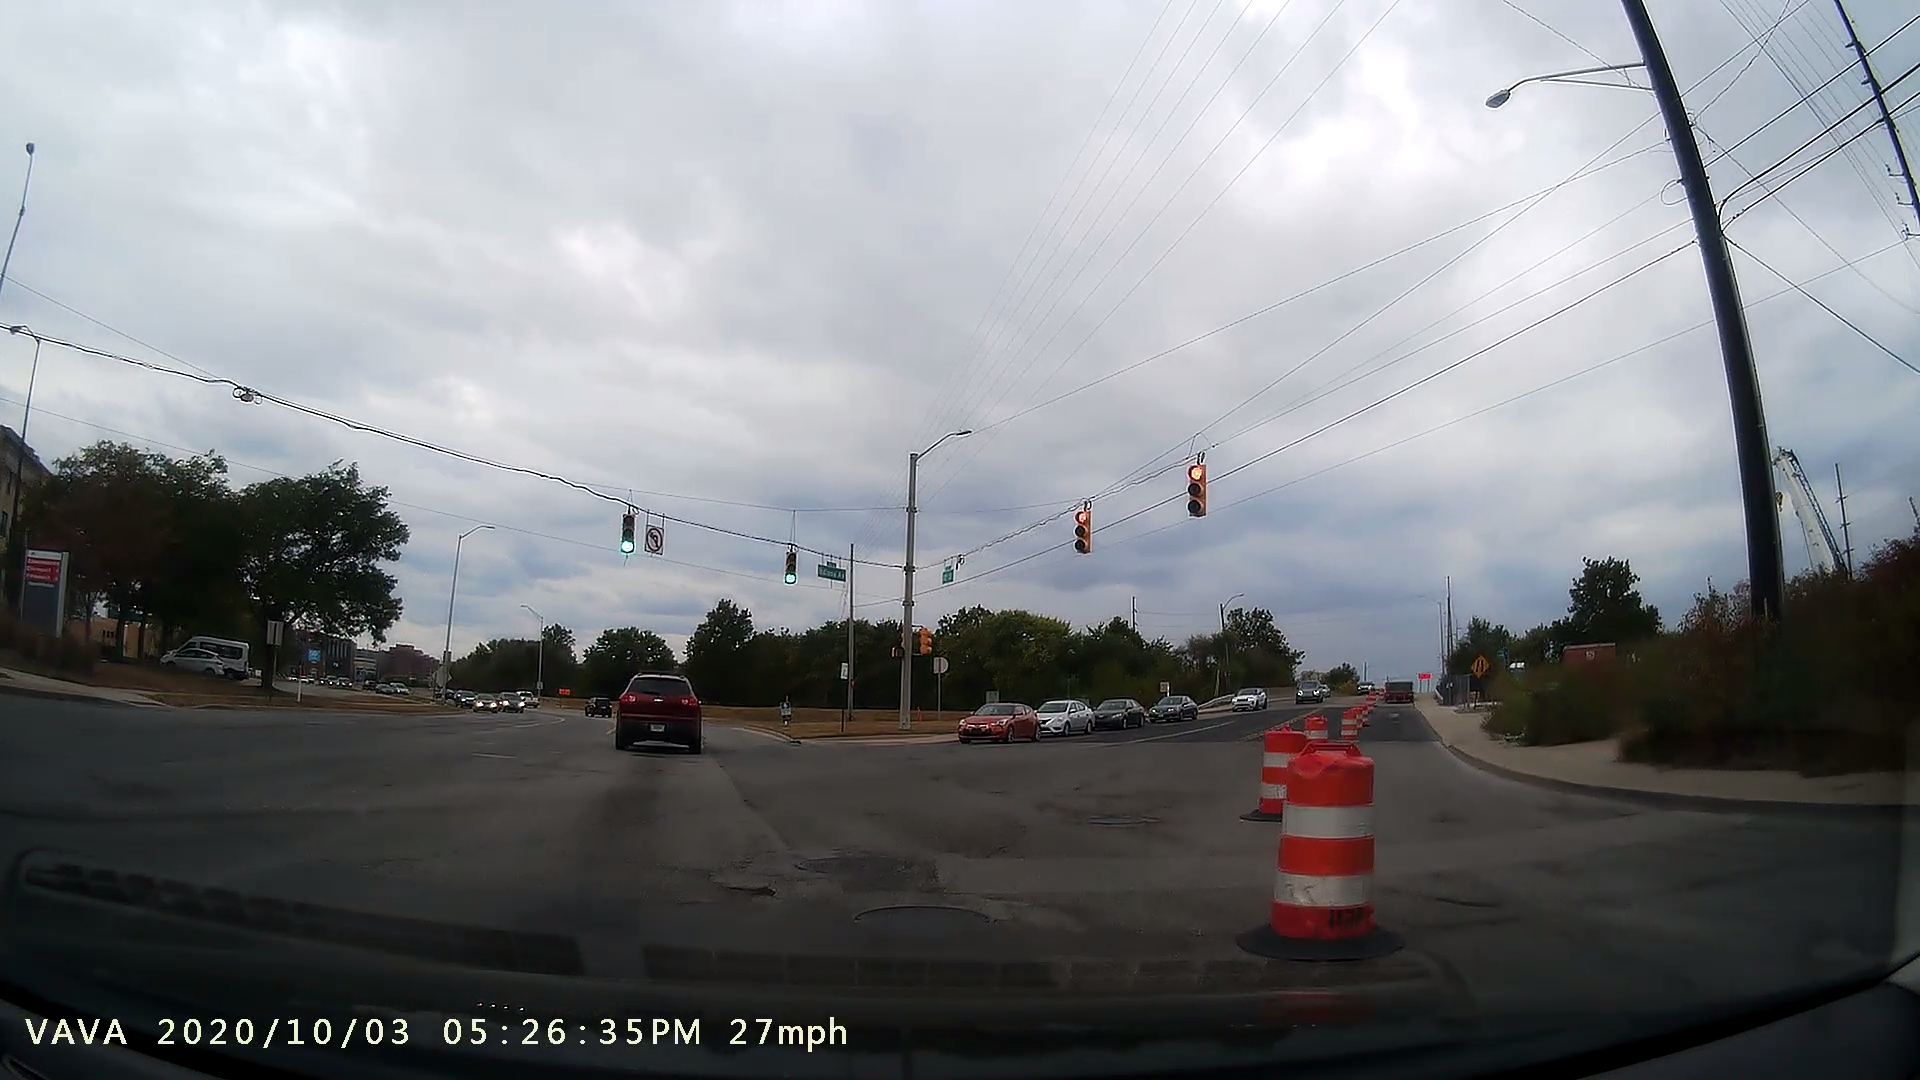const_barrel: (1232, 742, 1422, 968)
